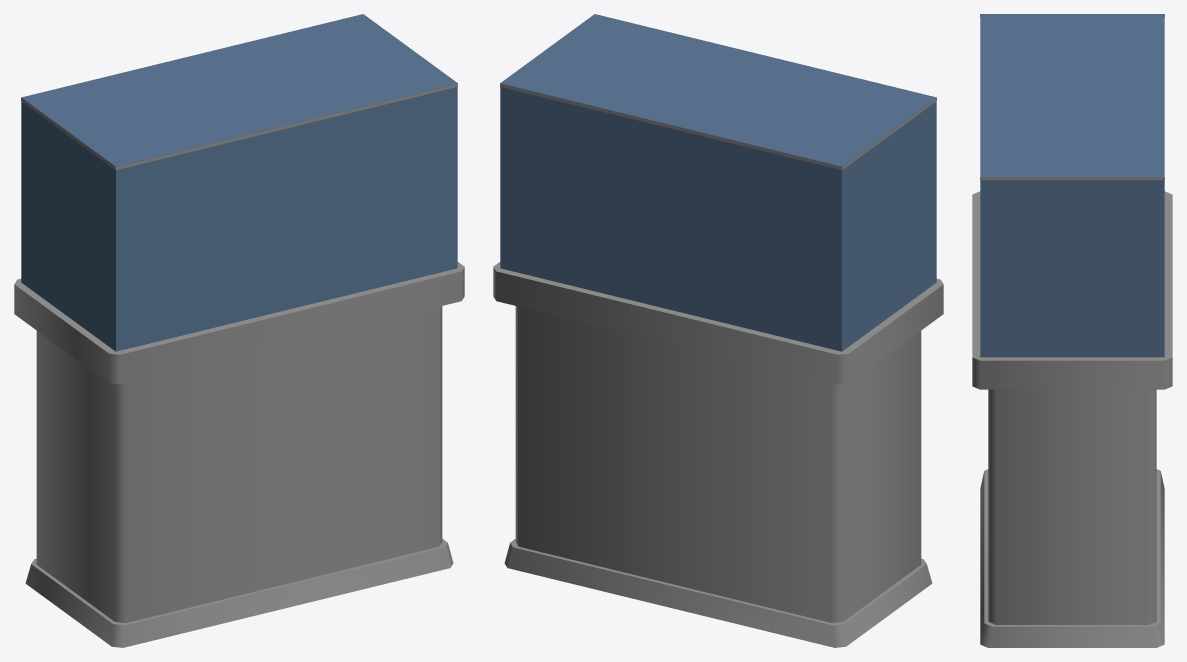
The model's file is ExStand.FBX.
The picture shows the model from 3 angles, left to right: view 1: azimuth 30°, elevation 25°; view 2: azimuth 150°, elevation 25°; view 3: azimuth 270°, elevation 25°; orthographic projection. The views are drawn at different scales.
Visible parts, largest first — view 1: ExStand, Glass, ExStand_Glass; view 2: ExStand, Glass, ExStand_Glass; view 3: Glass, ExStand, ExStand_Glass.
Boxes of the visible parts, x1,y1,x2,y2 form: ExStand: [14, 262, 464, 647]; Glass: [21, 14, 457, 351]; ExStand_Glass: [21, 14, 457, 170]; ExStand: [493, 262, 943, 647]; Glass: [500, 14, 936, 351]; ExStand_Glass: [500, 14, 936, 170]; Glass: [980, 14, 1164, 357]; ExStand: [972, 191, 1172, 647]; ExStand_Glass: [980, 14, 1164, 180].
Size of the model in its own units: 100 by 50 by 130.
